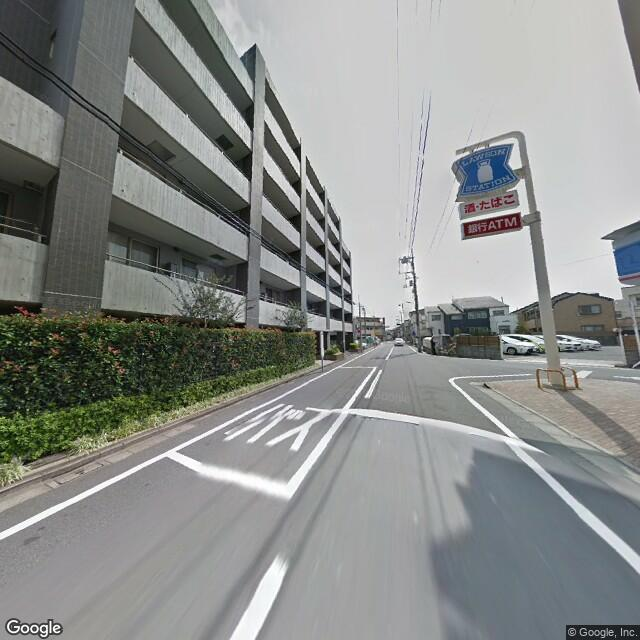lawson: (453, 127, 521, 198)
